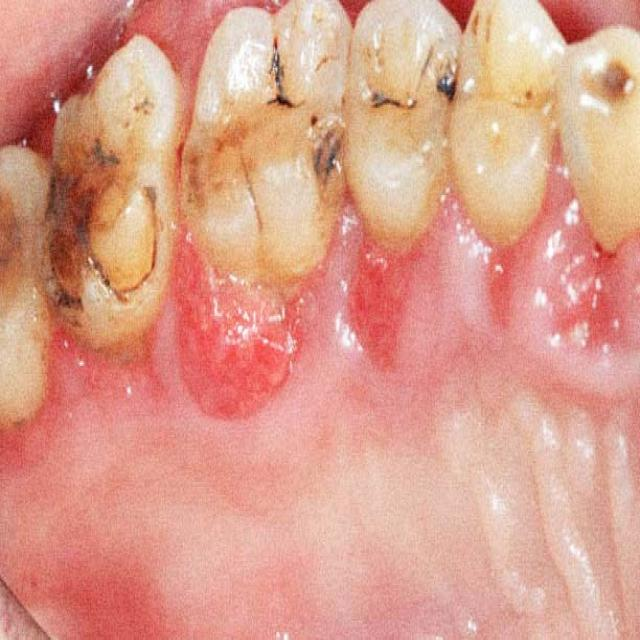caries: (38, 139, 165, 317), (182, 100, 270, 210), (298, 99, 360, 207), (577, 39, 640, 129), (0, 181, 37, 325), (256, 39, 312, 130), (355, 62, 415, 130), (416, 42, 467, 110), (507, 70, 552, 131), (482, 112, 522, 166), (120, 78, 158, 133)
